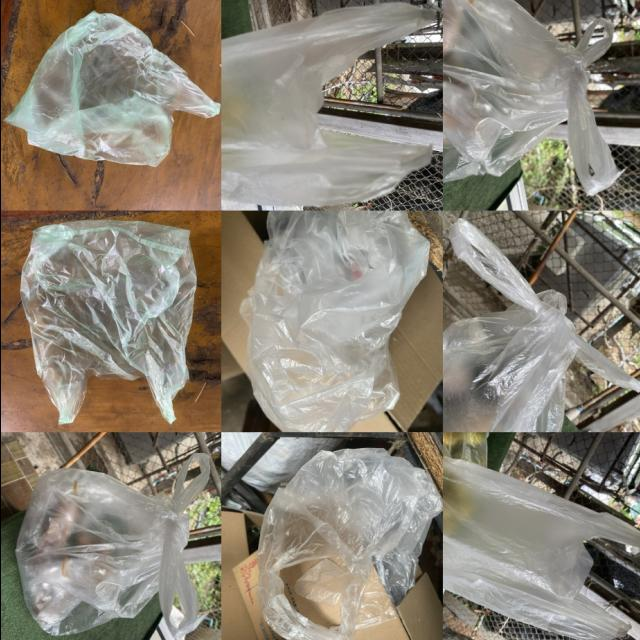plastik: (221, 3, 434, 206), (443, 219, 640, 432), (241, 211, 430, 430), (20, 220, 196, 424), (443, 458, 640, 640), (15, 453, 208, 637), (257, 449, 441, 640), (443, 0, 619, 195), (6, 11, 219, 167)
